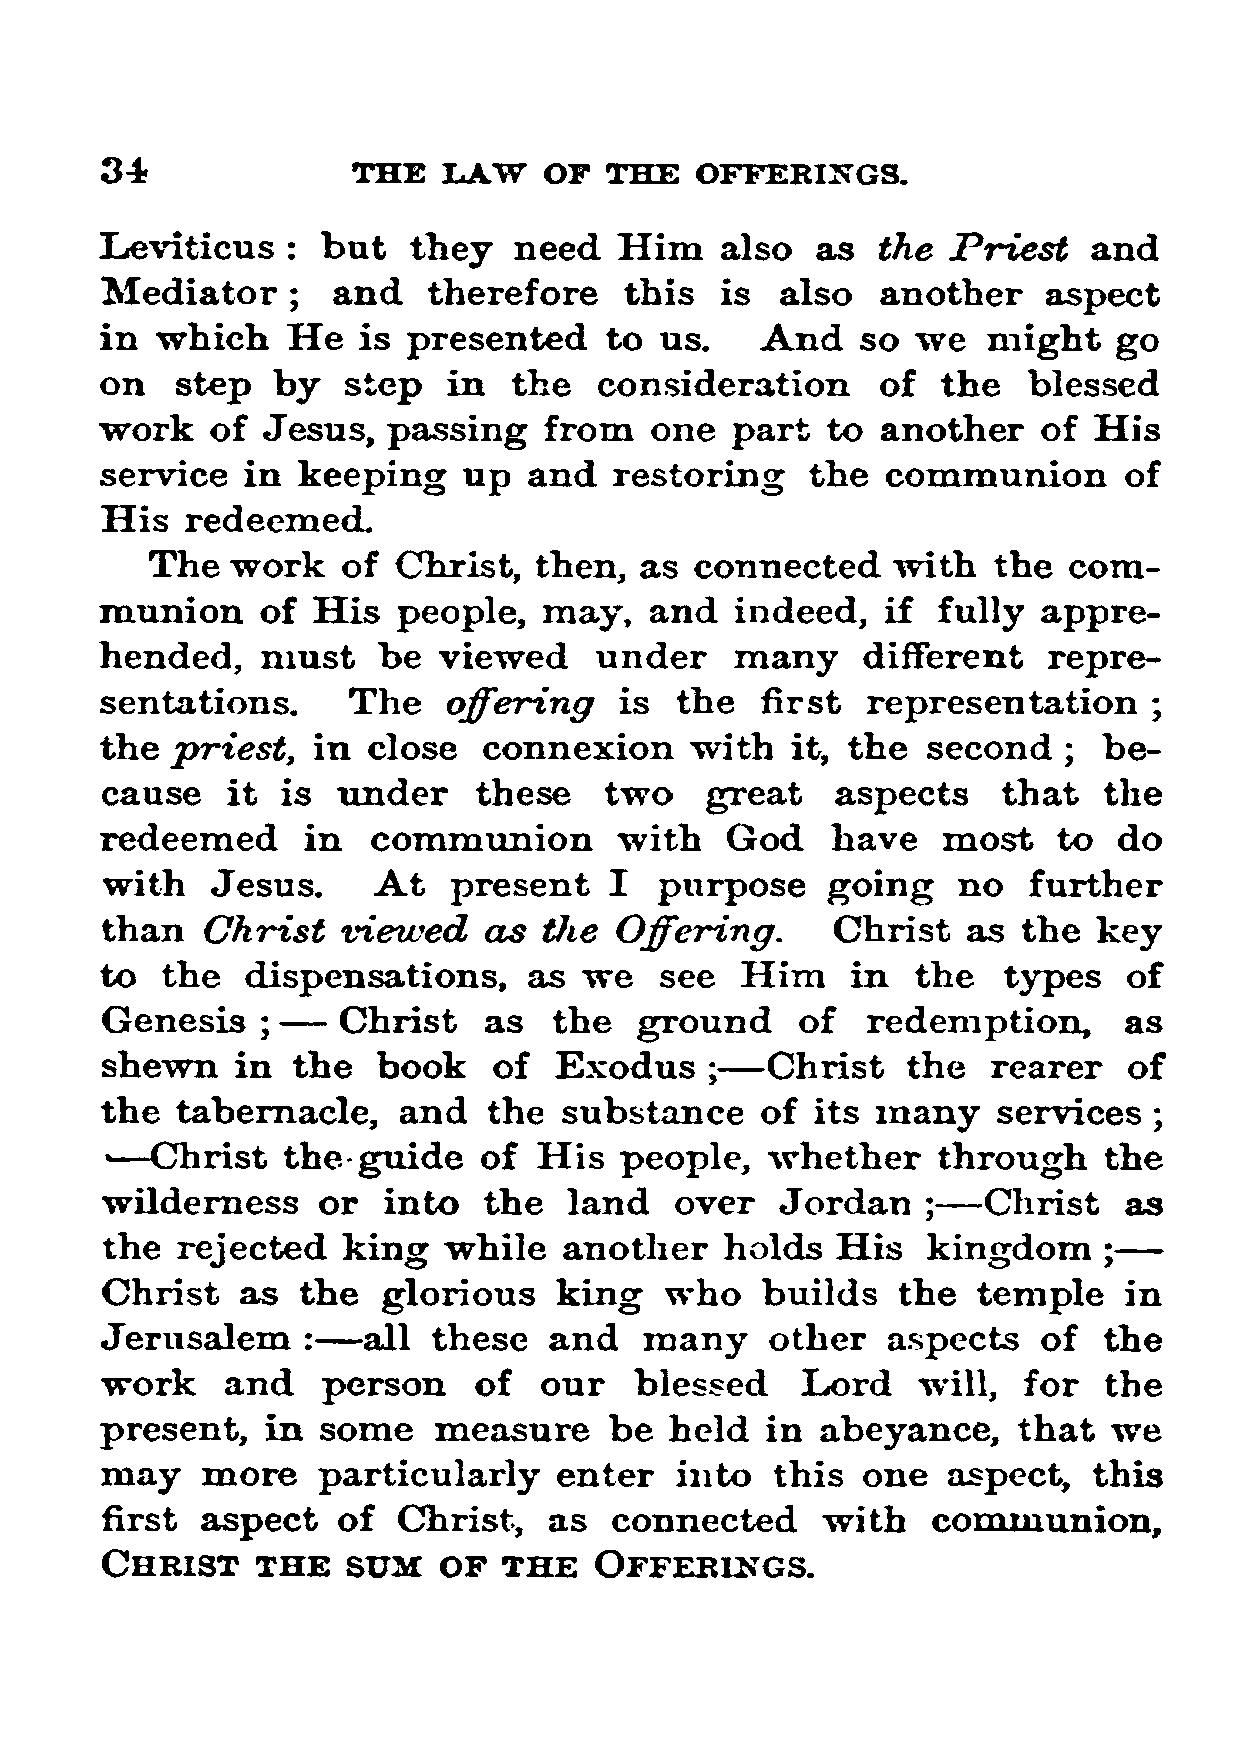content: (93, 216, 1177, 1593)
content_chapter: (346, 156, 911, 189)
content_pagenumber: (95, 142, 153, 191)
